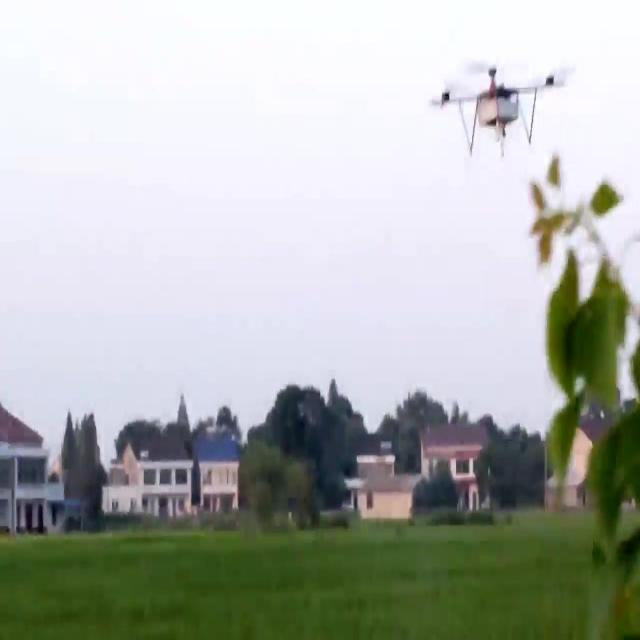UAV: (431, 64, 565, 158)
